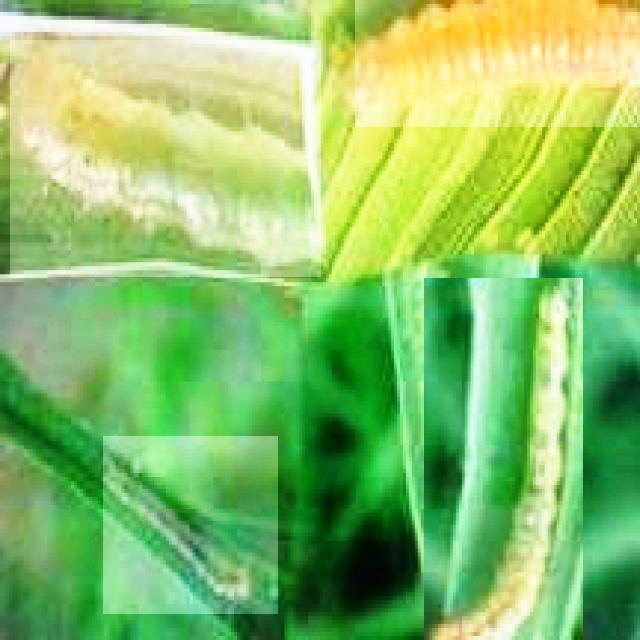leaf-folder: (10, 40, 321, 277), (424, 278, 583, 640), (355, 0, 640, 127), (103, 436, 278, 614)
